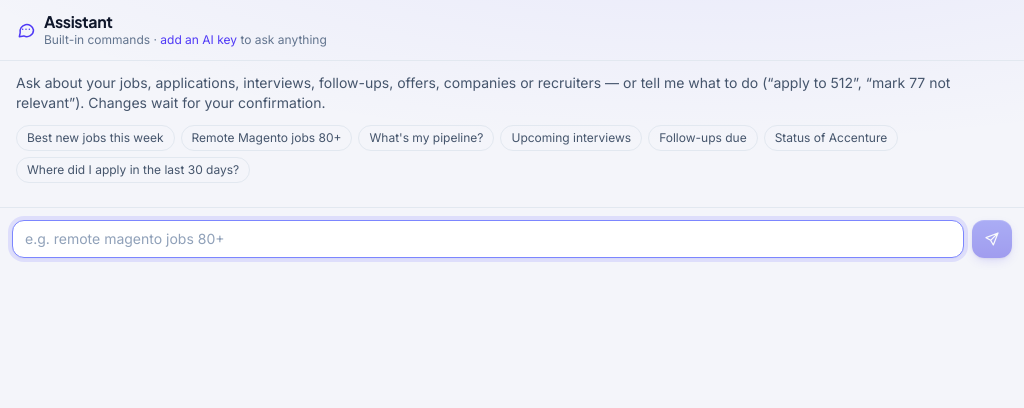
Test: assistant chat › answers with job cards and runs a proposed change only when confirmed
Expected: the link "add an AI key" is shown, [160, 32, 237, 47]
Type "apply 512" into the text box named "Message the assistant" at [488, 239], box [12, 220, 964, 258]
Then press Enter
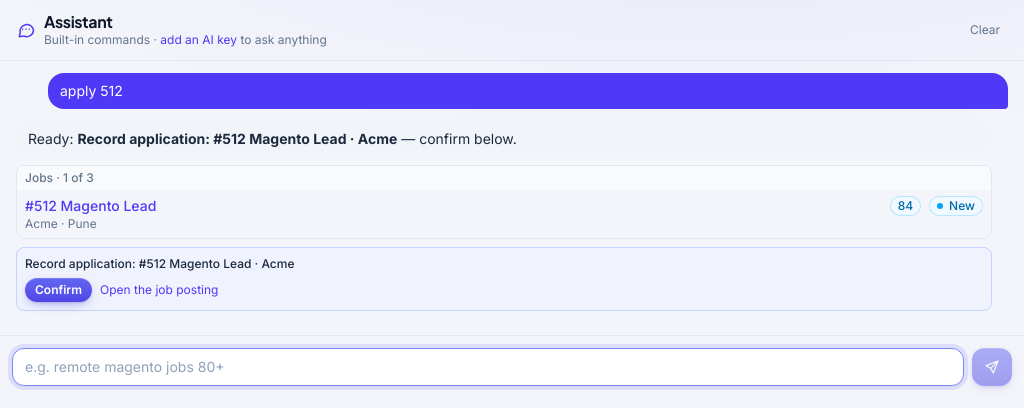
Now the text "Jobs · 1 of 3" is shown, box [17, 166, 991, 190]
Click the button "Confirm" at [59, 290], box [25, 278, 92, 302]
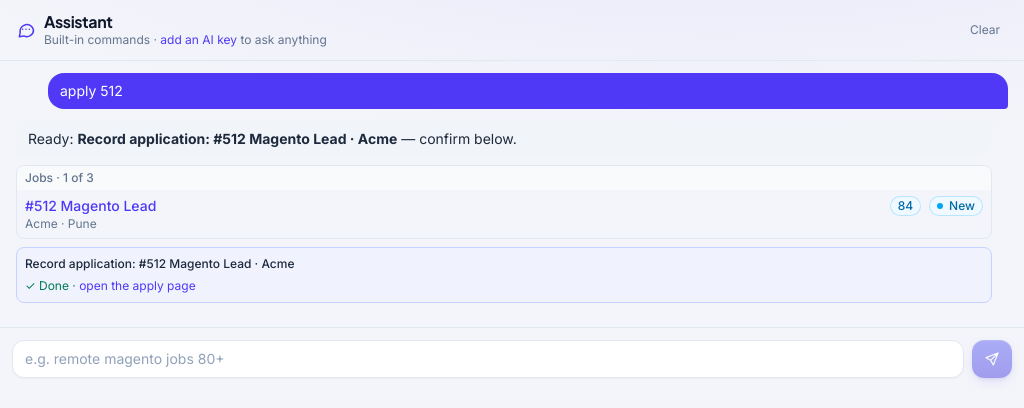
Now the text "✓ Done · open the apply page" is shown, box [25, 278, 196, 293]
